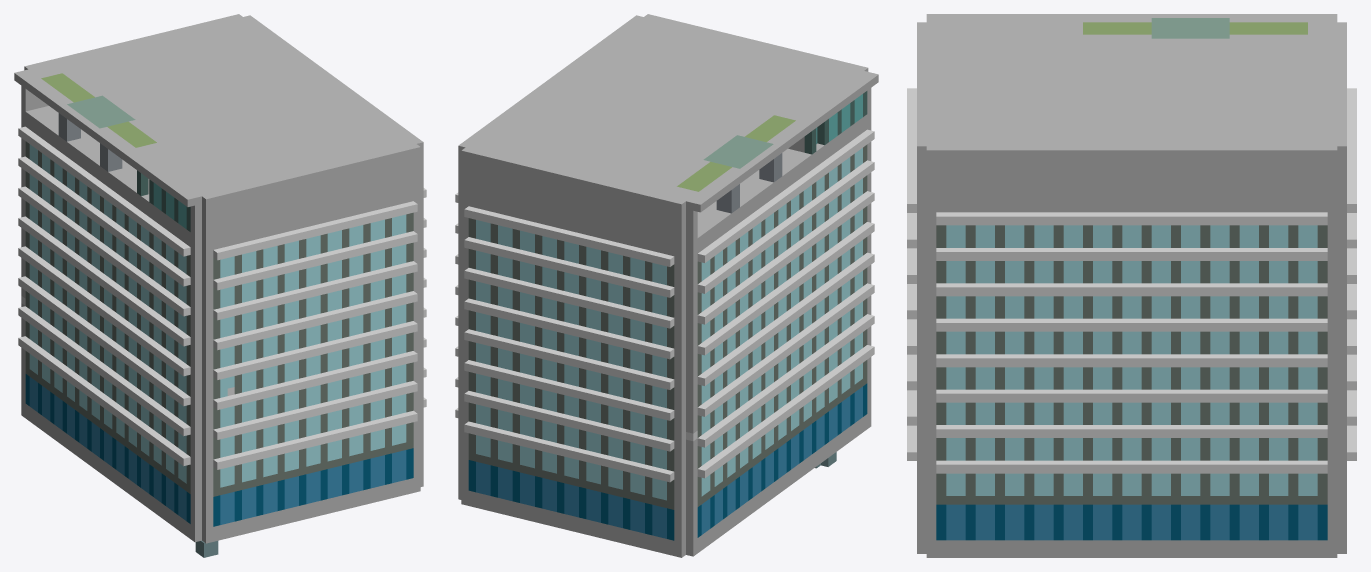
Rendered from Matsumoto3.fbx.
The picture shows the model from 3 angles, left to right: view 1: azimuth 30°, elevation 25°; view 2: azimuth 150°, elevation 25°; view 3: azimuth 270°, elevation 25°; orthographic projection. The views are drawn at different scales.
Visible parts, largest first — view 1: palette; view 2: palette; view 3: palette.
Part boxes in pixels (x1,y1,x2,y2): palette: (14, 14, 426, 557); palette: (455, 14, 878, 557); palette: (907, 14, 1356, 557).
Bounding box in the file's own units: 34 × 50 × 46.
Materials: 1 (1 with a texture image).
